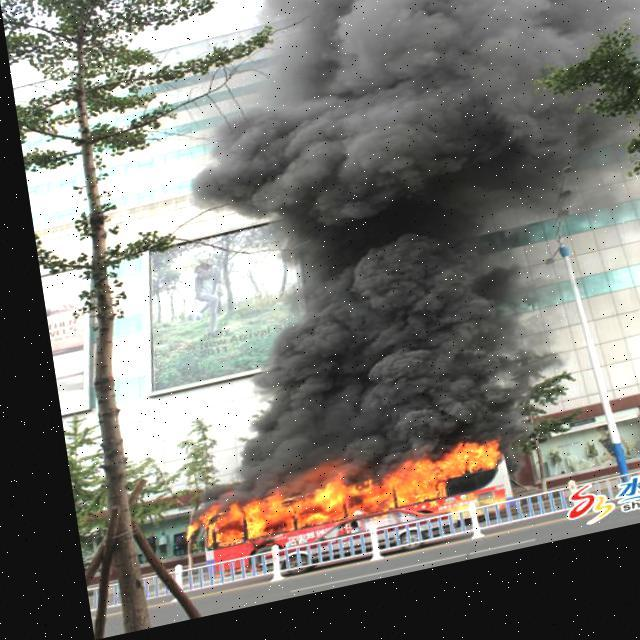Fire: (178, 447, 496, 568)
